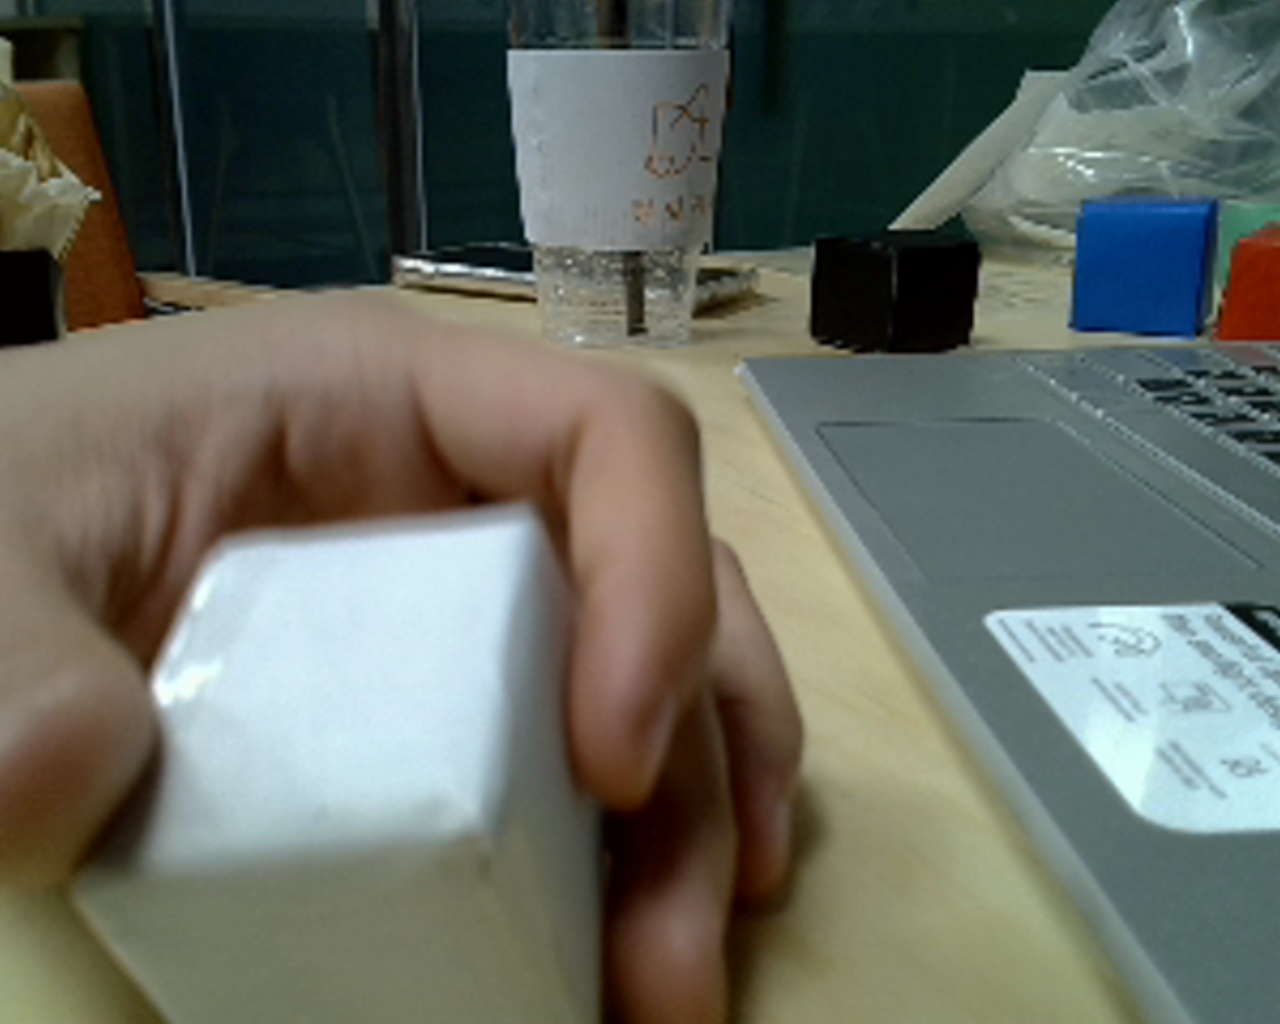whitebox: (47, 476, 632, 1024)
